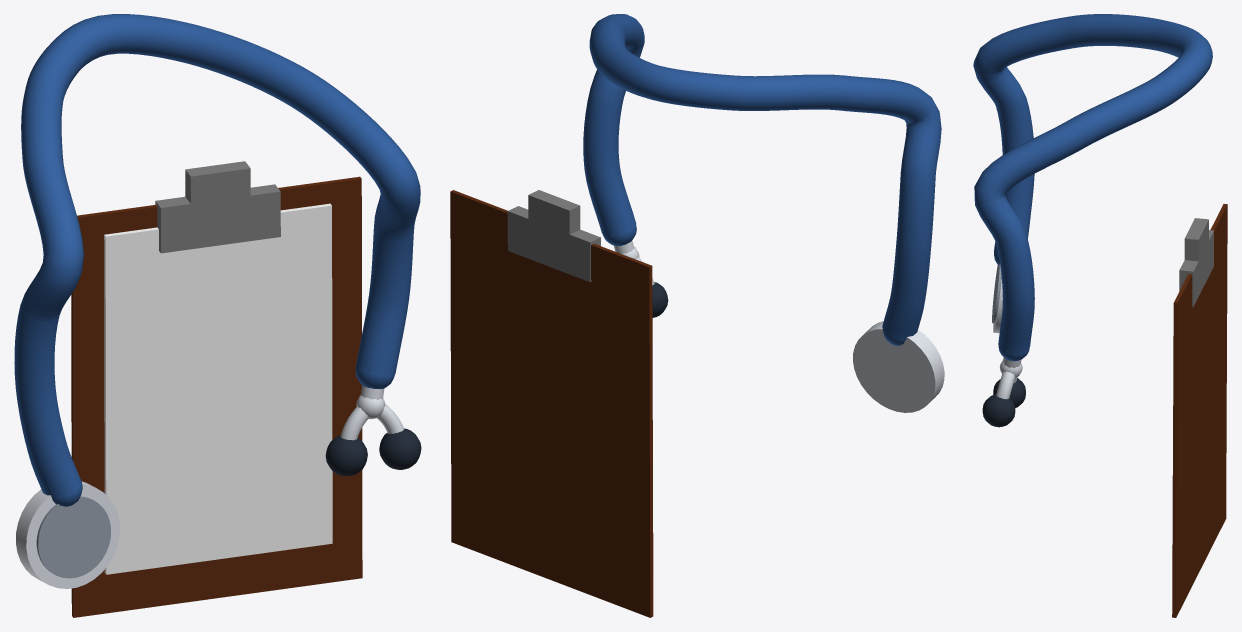
Rendered from doctor.glb.
3 renders of one model, left to right at view 1: azimuth 30°, elevation 25°; view 2: azimuth 150°, elevation 25°; view 3: azimuth 270°, elevation 25°, orthographic. The views are drawn at different scales.
Visible parts, largest first — view 1: grip_pos, anchor_body; view 2: grip_pos, anchor_body; view 3: anchor_body, grip_pos.
Boxes of the visible parts, x1,y1,x2,y2 form: grip_pos: (71,161,362,617); anchor_body: (14,14,421,588); grip_pos: (450,190,653,617); anchor_body: (583,14,944,412); anchor_body: (973,14,1212,427); grip_pos: (1172,204,1227,617).
Size of the model in its own units: 0.2174 by 0.2828 by 0.1356.
